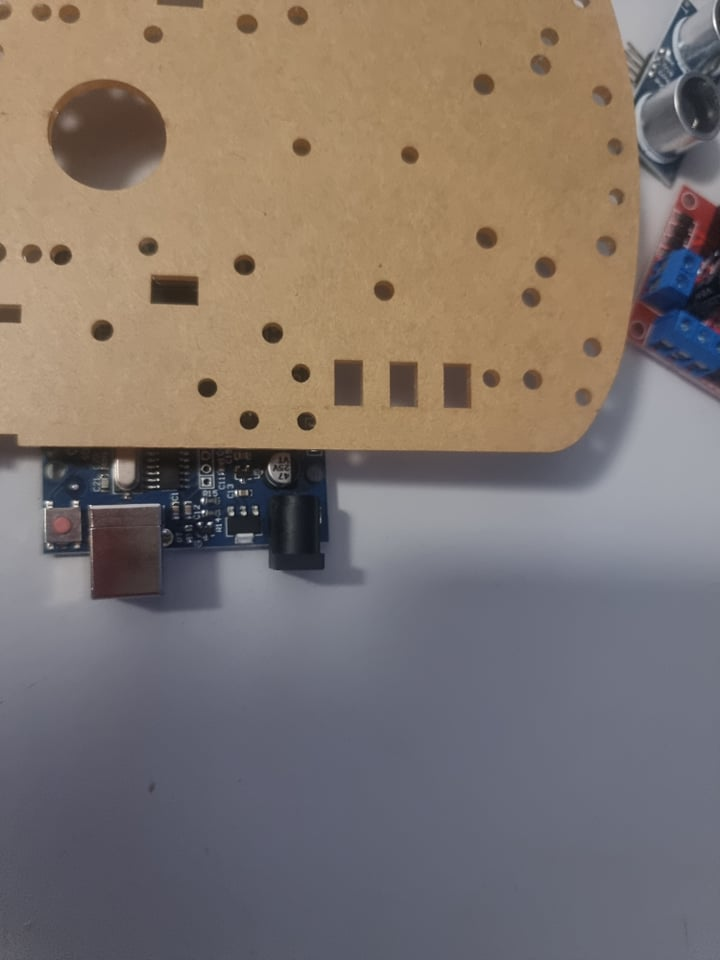UNO R3: (35, 440, 349, 609)
